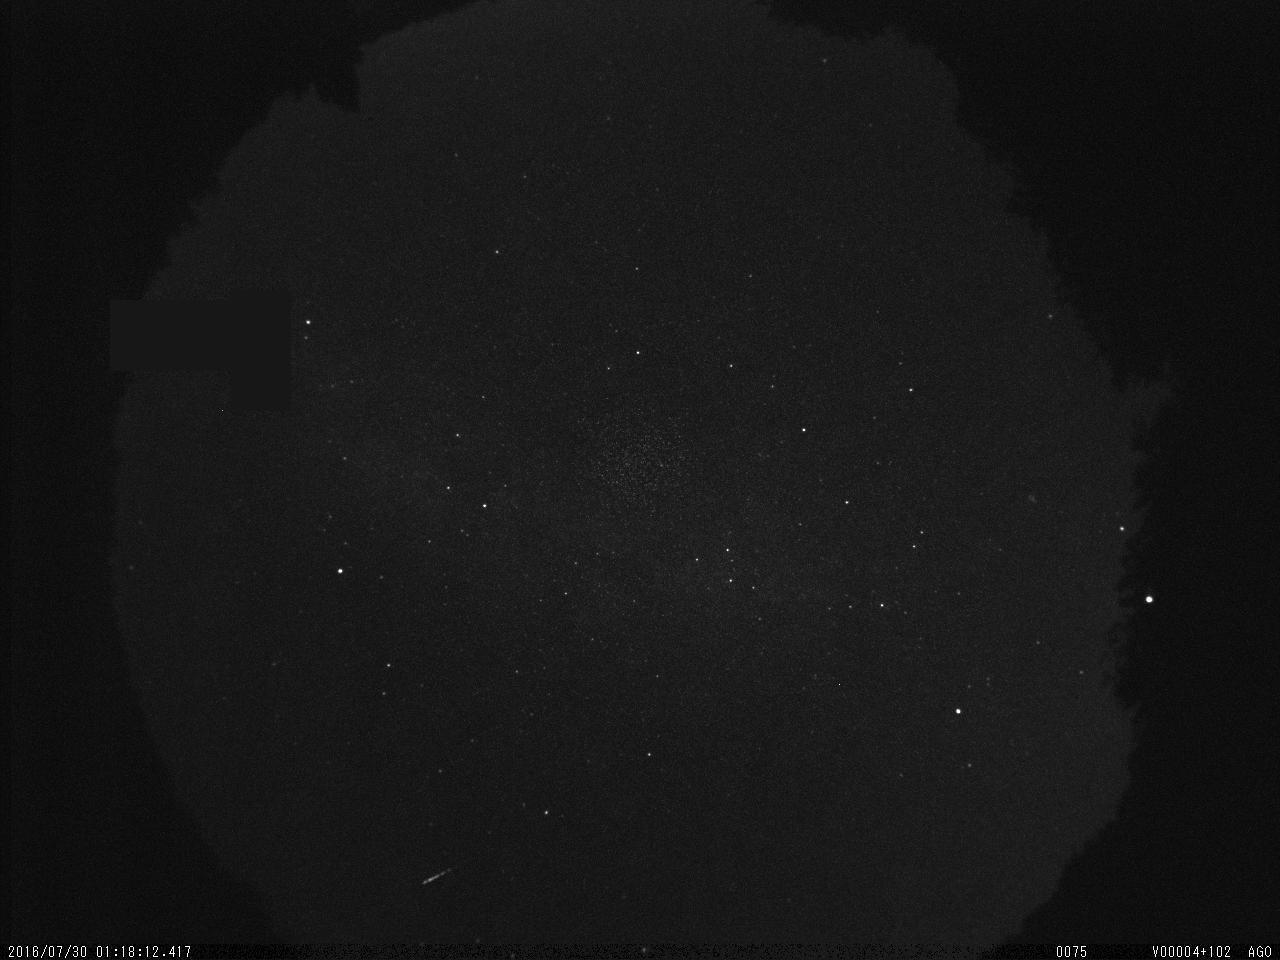meteor: (410, 856, 466, 897)
